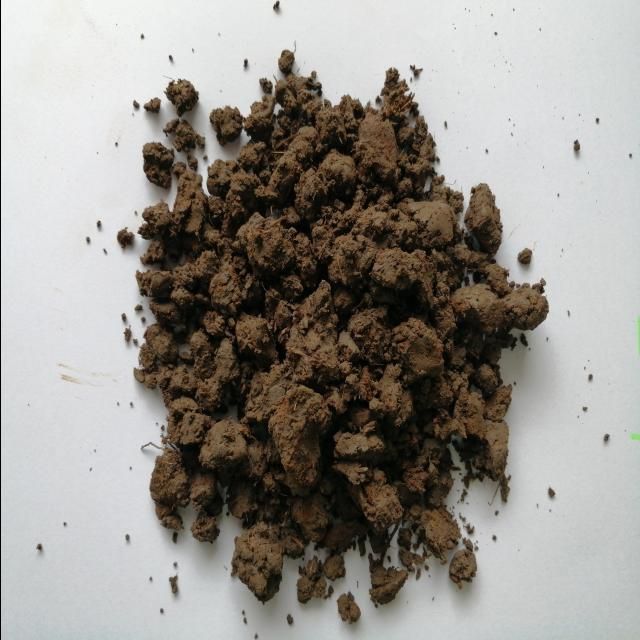soil: (187, 152, 449, 496)
